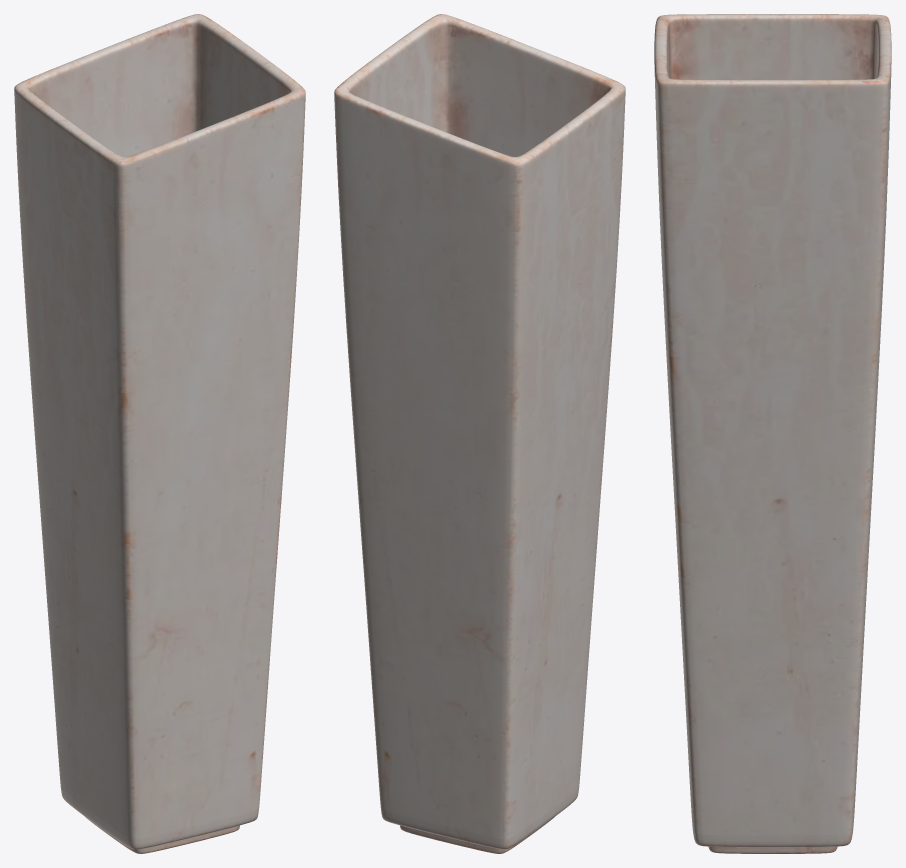
File: ceramic_vase_03.glb
3 renders of one model, left to right at view 1: azimuth 30°, elevation 25°; view 2: azimuth 150°, elevation 25°; view 3: azimuth 270°, elevation 25°, orthographic. The views are drawn at different scales.
Parts seen in each view (by area): view 1: ceramic_vase_03; view 2: ceramic_vase_03; view 3: ceramic_vase_03.
Boxes of the visible parts, <box> form: ceramic_vase_03: <box>14,14,305,853</box>; ceramic_vase_03: <box>334,14,625,853</box>; ceramic_vase_03: <box>654,14,891,853</box>.
Bounding box in the file's own units: 0.1123 × 0.4144 × 0.1123.
1 material, 1 textured.
